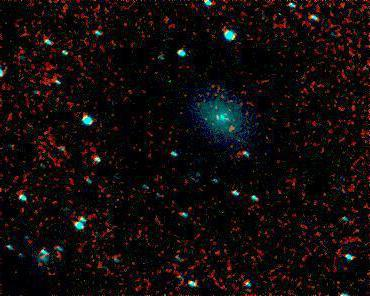star: (215, 112, 245, 142)
